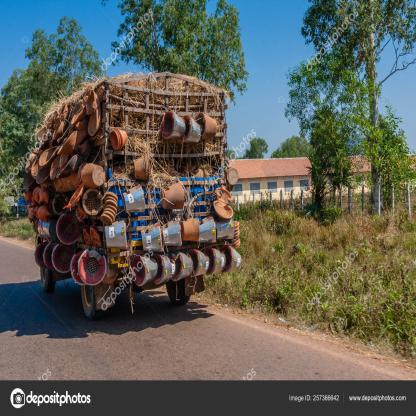overloaded-truck: (32, 66, 241, 306)
